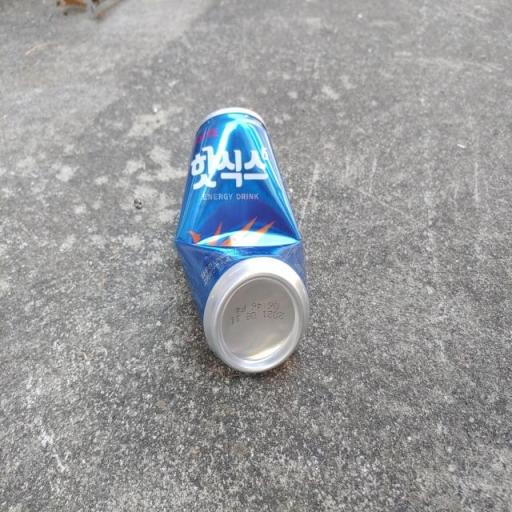metal: (125, 52, 352, 412)
